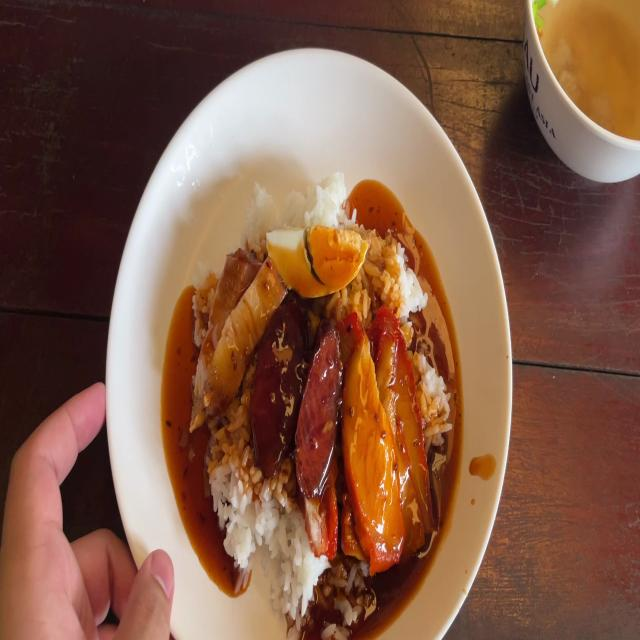red_pork_and_crispy_pork: (270, 227, 363, 292)
stir_fried_basil: (257, 312, 340, 490)
